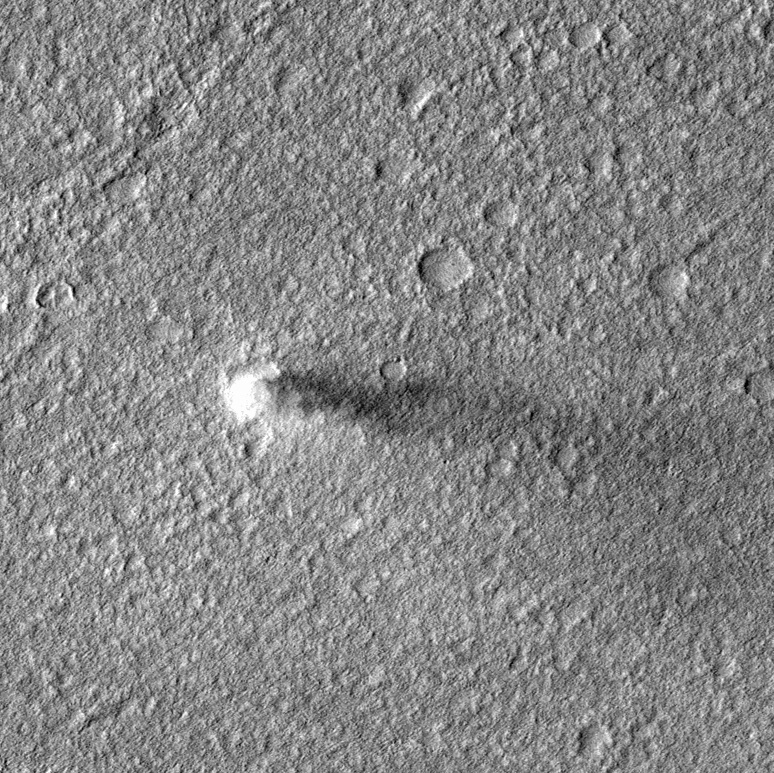dust_devil: (216, 359, 453, 437)
